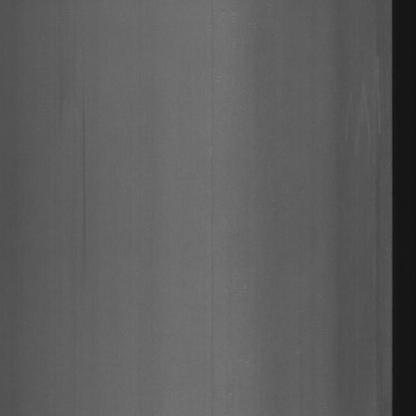silk_spot: (349, 62, 385, 173)
